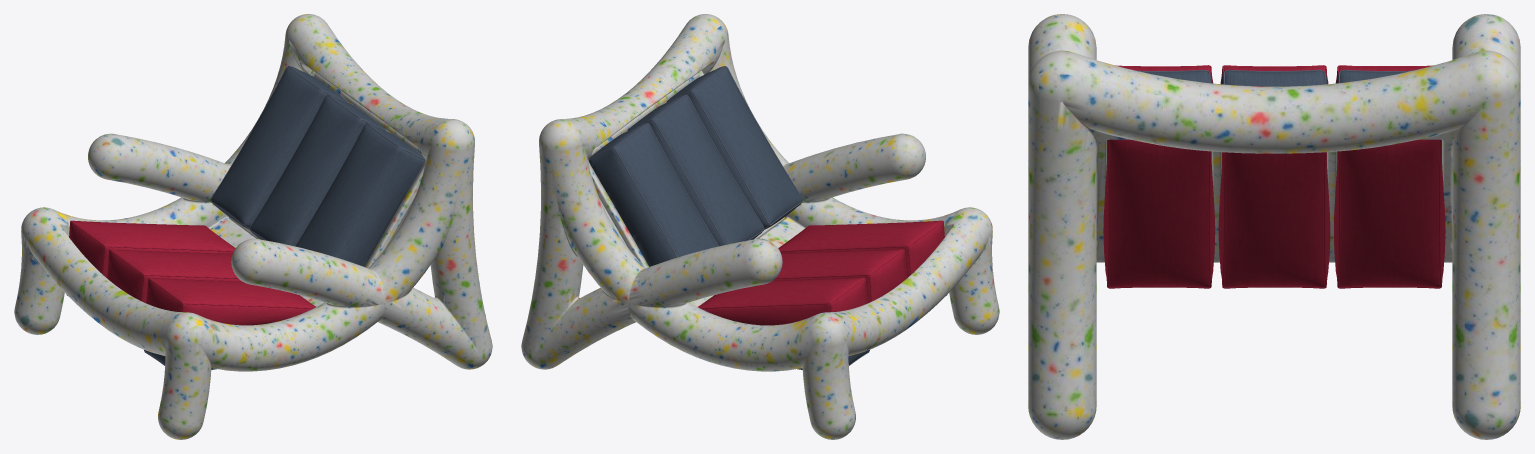
File: chair.glb
3 renders of one model, left to right at view 1: azimuth 30°, elevation 25°; view 2: azimuth 150°, elevation 25°; view 3: azimuth 270°, elevation 25°, orthographic. The views are drawn at different scales.
Visible parts, largest first — view 1: new chair 5.001, Cube.008, cushion_angle_1.004, frame.002, cushion_1.001; view 2: new chair 5.001, Cube.008, cushion_angle_1.004, frame.002, cushion_1.001; view 3: new chair 5.001, cushion_angle_1.004, cushion_angle_1.011, Cube.008, cushion_1.001.
Part boxes in pixels (left/top/right/bottom): new chair 5.001: left=14, top=14, right=492, bottom=439; Cube.008: left=66, top=66, right=424, bottom=369; cushion_angle_1.004: left=69, top=220, right=315, bottom=325; frame.002: left=229, top=70, right=425, bottom=267; cushion_1.001: left=144, top=66, right=425, bottom=369; new chair 5.001: left=521, top=14, right=999, bottom=439; Cube.008: left=589, top=66, right=869, bottom=369; cushion_angle_1.004: left=698, top=220, right=944, bottom=325; frame.002: left=588, top=70, right=784, bottom=267; cushion_1.001: left=589, top=66, right=947, bottom=295; new chair 5.001: left=1028, top=14, right=1520, bottom=439; cushion_angle_1.004: left=1103, top=65, right=1445, bottom=288; cushion_angle_1.011: left=1218, top=152, right=1330, bottom=287; Cube.008: left=1142, top=71, right=1406, bottom=86; cushion_1.001: left=1137, top=69, right=1411, bottom=84.
Bounding box in the file's own units: 1.04 × 0.7586 × 0.9144.
Materials: 5 (5 with a texture image).
